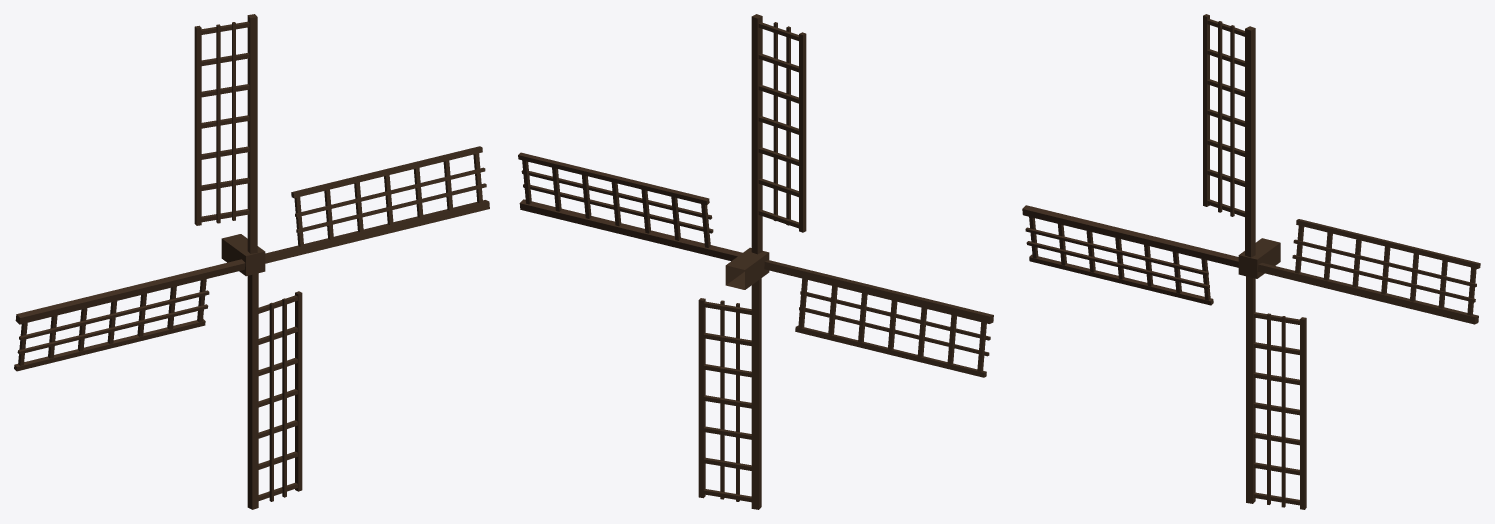
Rendered from windmill_2_blades_mat.fbx.
3 renders of one model, left to right at view 1: azimuth 30°, elevation 25°; view 2: azimuth 150°, elevation 25°; view 3: azimuth 330°, elevation 25°, orthographic. The views are drawn at different scales.
Parts seen in each view (by area): view 1: windmill_2_blades_mat; view 2: windmill_2_blades_mat; view 3: windmill_2_blades_mat.
Boxes of the visible parts, x1,y1,x2,y2 form: windmill_2_blades_mat: [14, 14, 489, 509]; windmill_2_blades_mat: [518, 14, 993, 509]; windmill_2_blades_mat: [1022, 14, 1480, 509].
Bounding box in the file's own units: 465 × 465 × 41.47.
